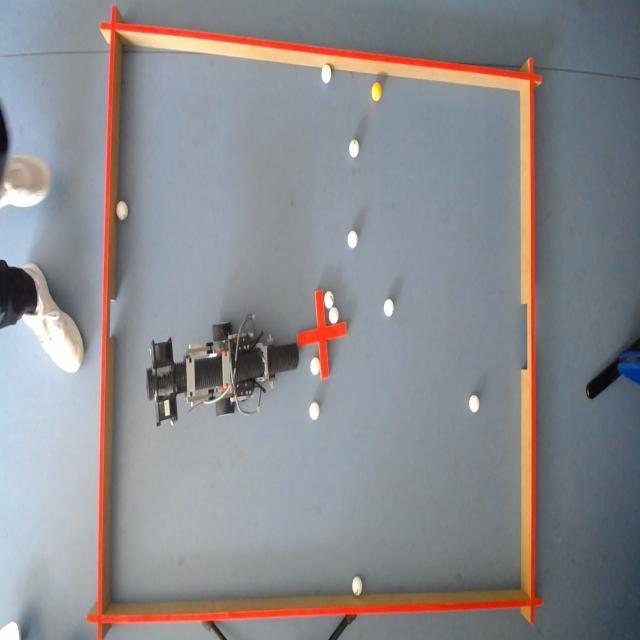orange: (368, 81, 382, 102)
robot: (149, 320, 291, 430)
white: (468, 392, 482, 416), (116, 200, 130, 221), (308, 357, 320, 380), (348, 136, 360, 158), (308, 401, 320, 422), (351, 575, 362, 596), (322, 290, 333, 310), (319, 62, 330, 82), (383, 298, 394, 318), (346, 228, 356, 248), (329, 304, 339, 323)
